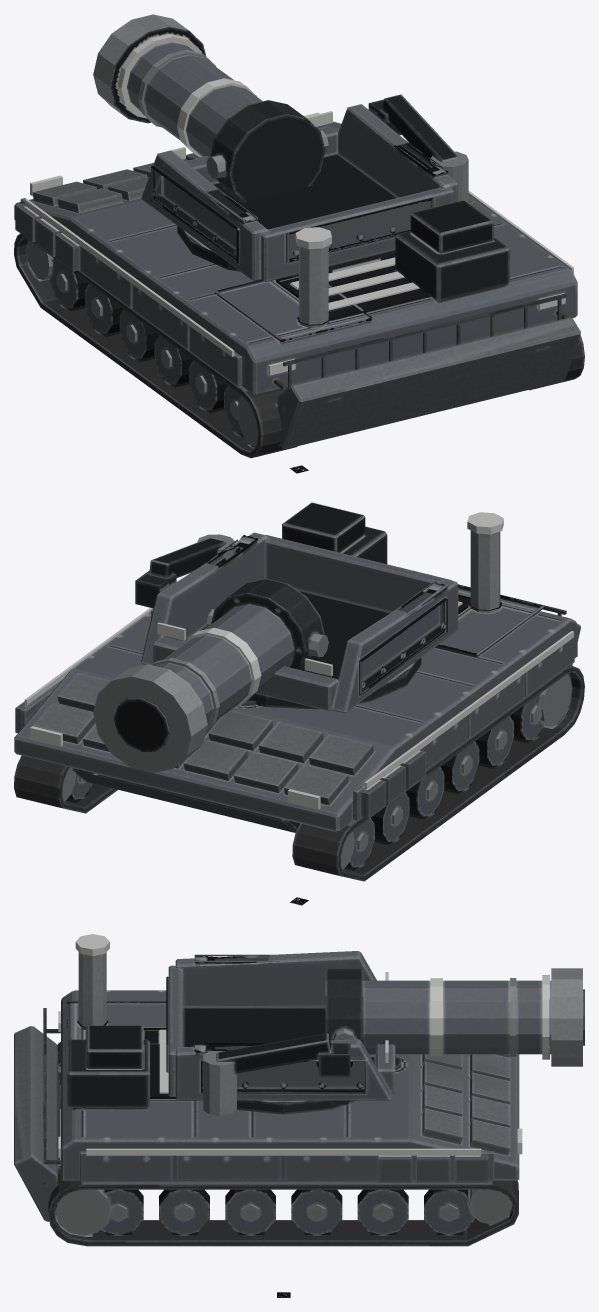
File: chs_hellmouth.fbx
3 renders of one model, top to bottom at view 1: azimuth 30°, elevation 25°; view 2: azimuth 150°, elevation 25°; view 3: azimuth 270°, elevation 25°, orthographic. The views are drawn at different scales.
Parts seen in each view (by area): view 1: base_bar, turret_bar, barrel_bar, trackL_bar, base_glow_running_bar, barrel_glow_weapon_bar; view 2: base_bar, turret_bar, barrel_bar, trackL_bar, trackR_bar, base_glow_running_bar, barrel_glow_weapon_bar, base_glow_head_bar, turret_glow_running_bar; view 3: base_bar, turret_bar, trackR_bar, barrel_bar, base_glow_running_bar, barrel_glow_weapon_bar.
Part boxes in pixels (left/top/right/bottom): base_bar: left=14, top=121, right=580, bottom=449; turret_bar: left=141, top=94, right=468, bottom=281; barrel_bar: left=93, top=14, right=328, bottom=201; trackL_bar: left=14, top=233, right=297, bottom=458; base_glow_running_bar: left=24, top=191, right=573, bottom=375; barrel_glow_weapon_bar: left=117, top=34, right=257, bottom=157; base_bar: left=14, top=502, right=580, bottom=832; turret_bar: left=135, top=532, right=458, bottom=713; barrel_bar: left=93, top=578, right=328, bottom=773; trackL_bar: left=292, top=665, right=584, bottom=881; trackR_bar: left=14, top=755, right=117, bottom=813; base_glow_running_bar: left=24, top=512, right=573, bottom=788; barrel_glow_weapon_bar: left=181, top=627, right=261, bottom=706; base_glow_head_bar: left=30, top=726, right=320, bottom=809; turret_glow_running_bar: left=157, top=622, right=332, bottom=676; base_bar: left=14, top=952, right=519, bottom=1221; turret_bar: left=166, top=951, right=395, bottom=1115; trackR_bar: left=48, top=1171, right=518, bottom=1246; barrel_bar: left=325, top=968, right=584, bottom=1066; base_glow_running_bar: left=58, top=934, right=481, bottom=1157; barrel_glow_weapon_bar: left=430, top=975, right=549, bottom=1059.
Bounding box in the file's own units: 567 × 518 × 834.
Materials: 2 (2 with a texture image).
